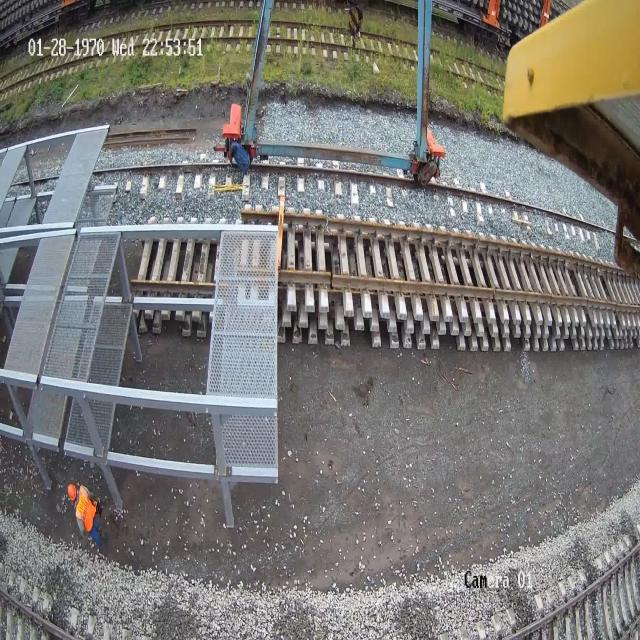Helmet: (68, 483, 76, 501)
Person: (67, 482, 103, 552)
